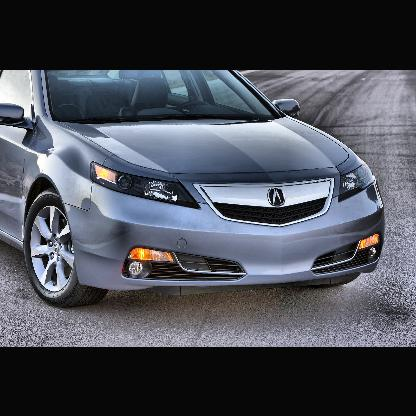Acura TL Sedan 2012: (2, 71, 387, 304)
